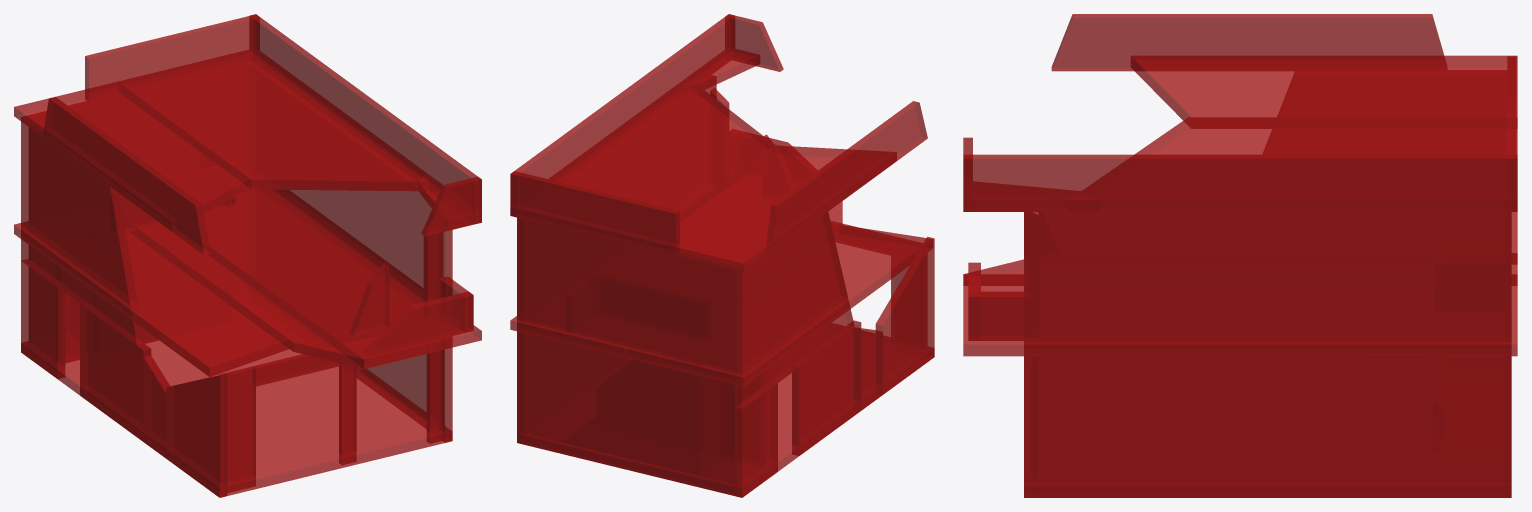
File: SM_Bld_Shop_10_Destroyed_Collision.fbx
3 renders of one model, left to right at view 1: azimuth 30°, elevation 25°; view 2: azimuth 150°, elevation 25°; view 3: azimuth 270°, elevation 25°, orthographic. The views are drawn at different scales.
Parts seen in each view (by area): view 1: SM_Bld_Shop_10_Destroyed_Collision; view 2: SM_Bld_Shop_10_Destroyed_Collision; view 3: SM_Bld_Shop_10_Destroyed_Collision.
Boxes of the visible parts, bbox=[...] form: SM_Bld_Shop_10_Destroyed_Collision: bbox=[14, 14, 481, 497]; SM_Bld_Shop_10_Destroyed_Collision: bbox=[510, 14, 934, 497]; SM_Bld_Shop_10_Destroyed_Collision: bbox=[963, 14, 1517, 497].
Bounding box in the file's own units: 702 × 773 × 1136.
